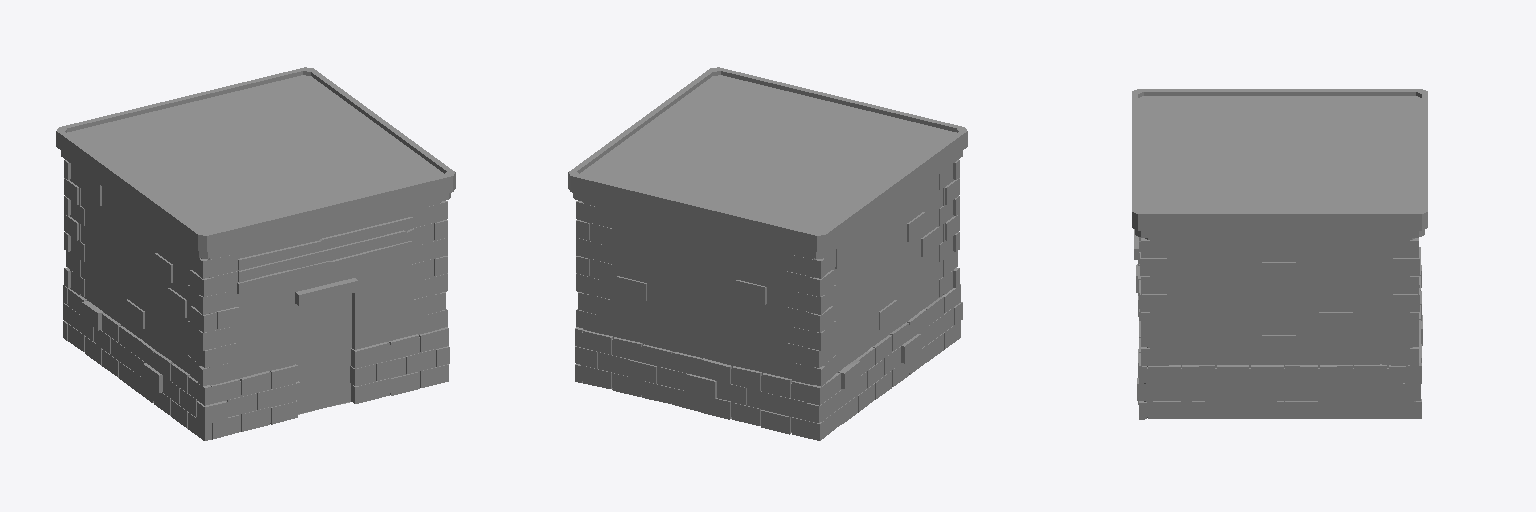
File: 1Story_Sign_Base.obj
3 renders of one model, left to right at view 1: azimuth 30°, elevation 25°; view 2: azimuth 150°, elevation 25°; view 3: azimuth 270°, elevation 25°, orthographic.
Parts seen in each view (by area): view 1: 1Story_Sign_Base_Cube.047; view 2: 1Story_Sign_Base_Cube.047; view 3: 1Story_Sign_Base_Cube.047.
Boxes of the visible parts, x1=… form: 1Story_Sign_Base_Cube.047: x1=56, y1=67, x2=455, y2=440; 1Story_Sign_Base_Cube.047: x1=568, y1=67, x2=967, y2=440; 1Story_Sign_Base_Cube.047: x1=1132, y1=89, x2=1427, y2=419.
Size of the model in its own units: 2.15 by 1.67 by 2.15.